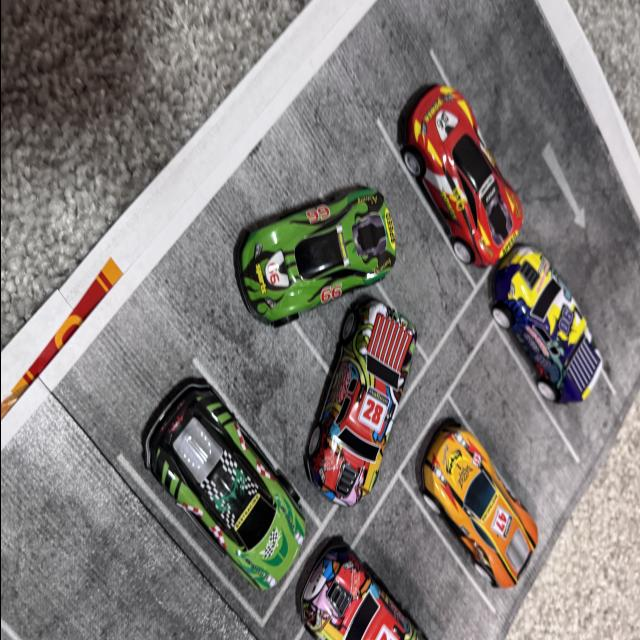Car: (136, 380, 304, 586), (290, 275, 430, 521), (234, 167, 408, 348), (400, 34, 530, 258), (485, 232, 610, 406), (430, 431, 556, 587), (307, 547, 474, 640)
